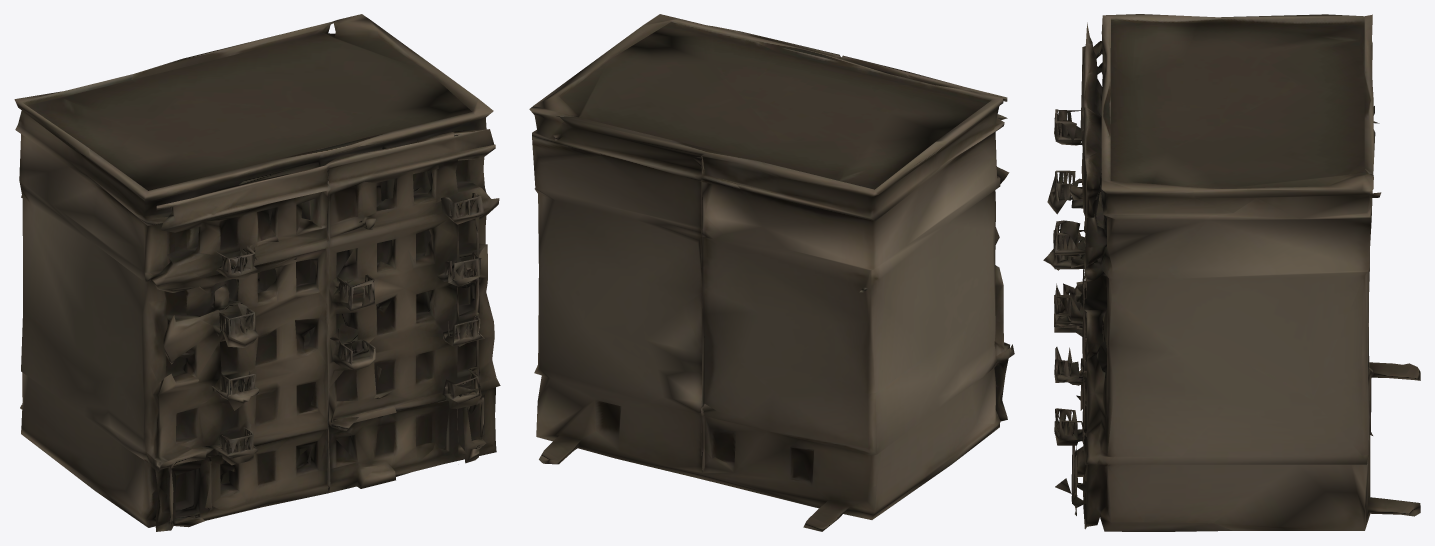
The model's file is brick-apartment.glb.
The picture shows the model from 3 angles, left to right: view 1: azimuth 30°, elevation 25°; view 2: azimuth 150°, elevation 25°; view 3: azimuth 270°, elevation 25°; orthographic projection. The views are drawn at different scales.
Parts seen in each view (by area): view 1: tripo_node_a6e3c7f2-7da9-42f3-a2bf-1ed893265d91; view 2: tripo_node_a6e3c7f2-7da9-42f3-a2bf-1ed893265d91; view 3: tripo_node_a6e3c7f2-7da9-42f3-a2bf-1ed893265d91.
Part boxes in pixels (box(x1,y1,x2,y2)): tripo_node_a6e3c7f2-7da9-42f3-a2bf-1ed893265d91: box(14, 14, 500, 531); tripo_node_a6e3c7f2-7da9-42f3-a2bf-1ed893265d91: box(529, 14, 1014, 531); tripo_node_a6e3c7f2-7da9-42f3-a2bf-1ed893265d91: box(1043, 14, 1420, 531).
Bounding box in the file's own units: 26 × 23.71 × 23.58.
1 material, 1 textured.
